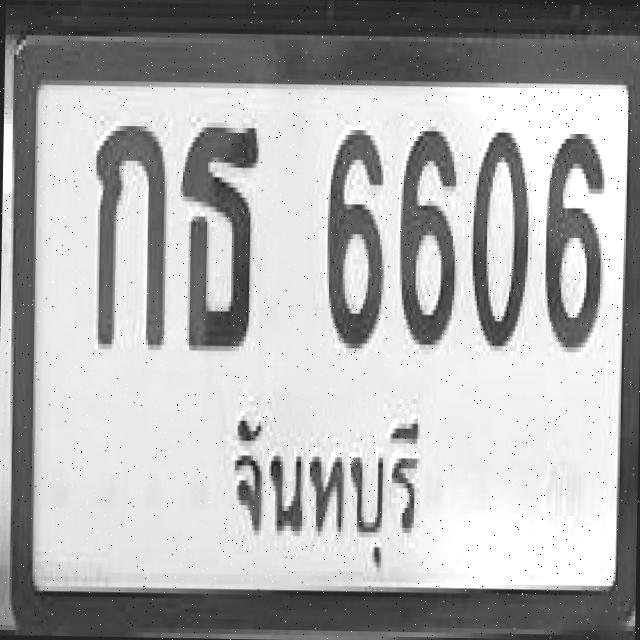0: (462, 110, 535, 394)
10GorGai: (78, 100, 174, 378)
33ThorThong: (168, 112, 266, 383)
6: (312, 100, 398, 397), (387, 117, 463, 385), (537, 120, 606, 388)
Chanthaburi: (216, 384, 444, 560)
